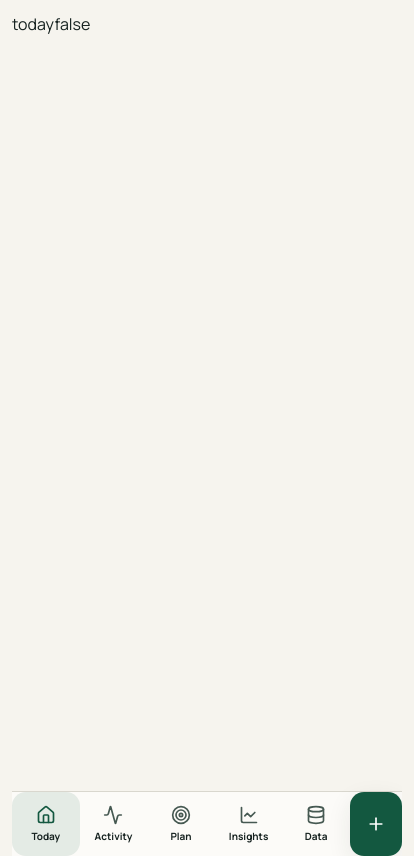
Test: responsive workspace navigation › opens quick add from the mobile bottom-bar action
Click the button named "Quick add activity". click: point(376, 824)
box: [350,792,402,855]
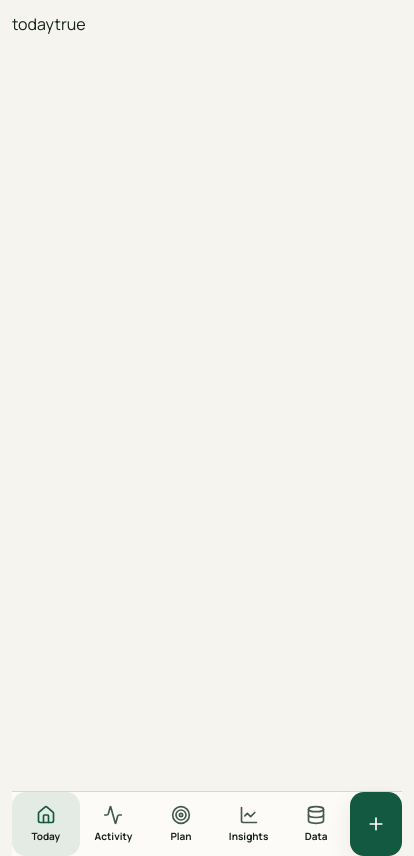
Result: the text with test id "quick-add" reads "true" at [54,13,86,35]
